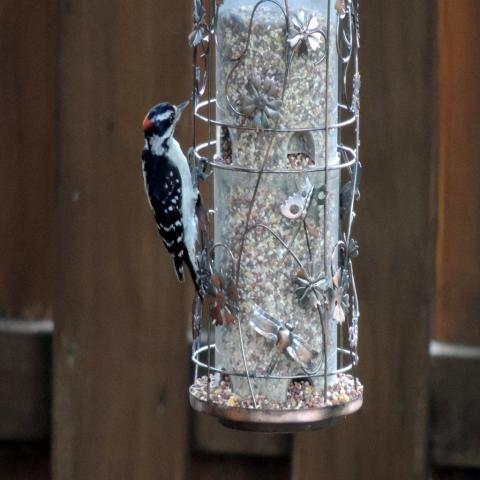bird: (138, 97, 212, 304)
